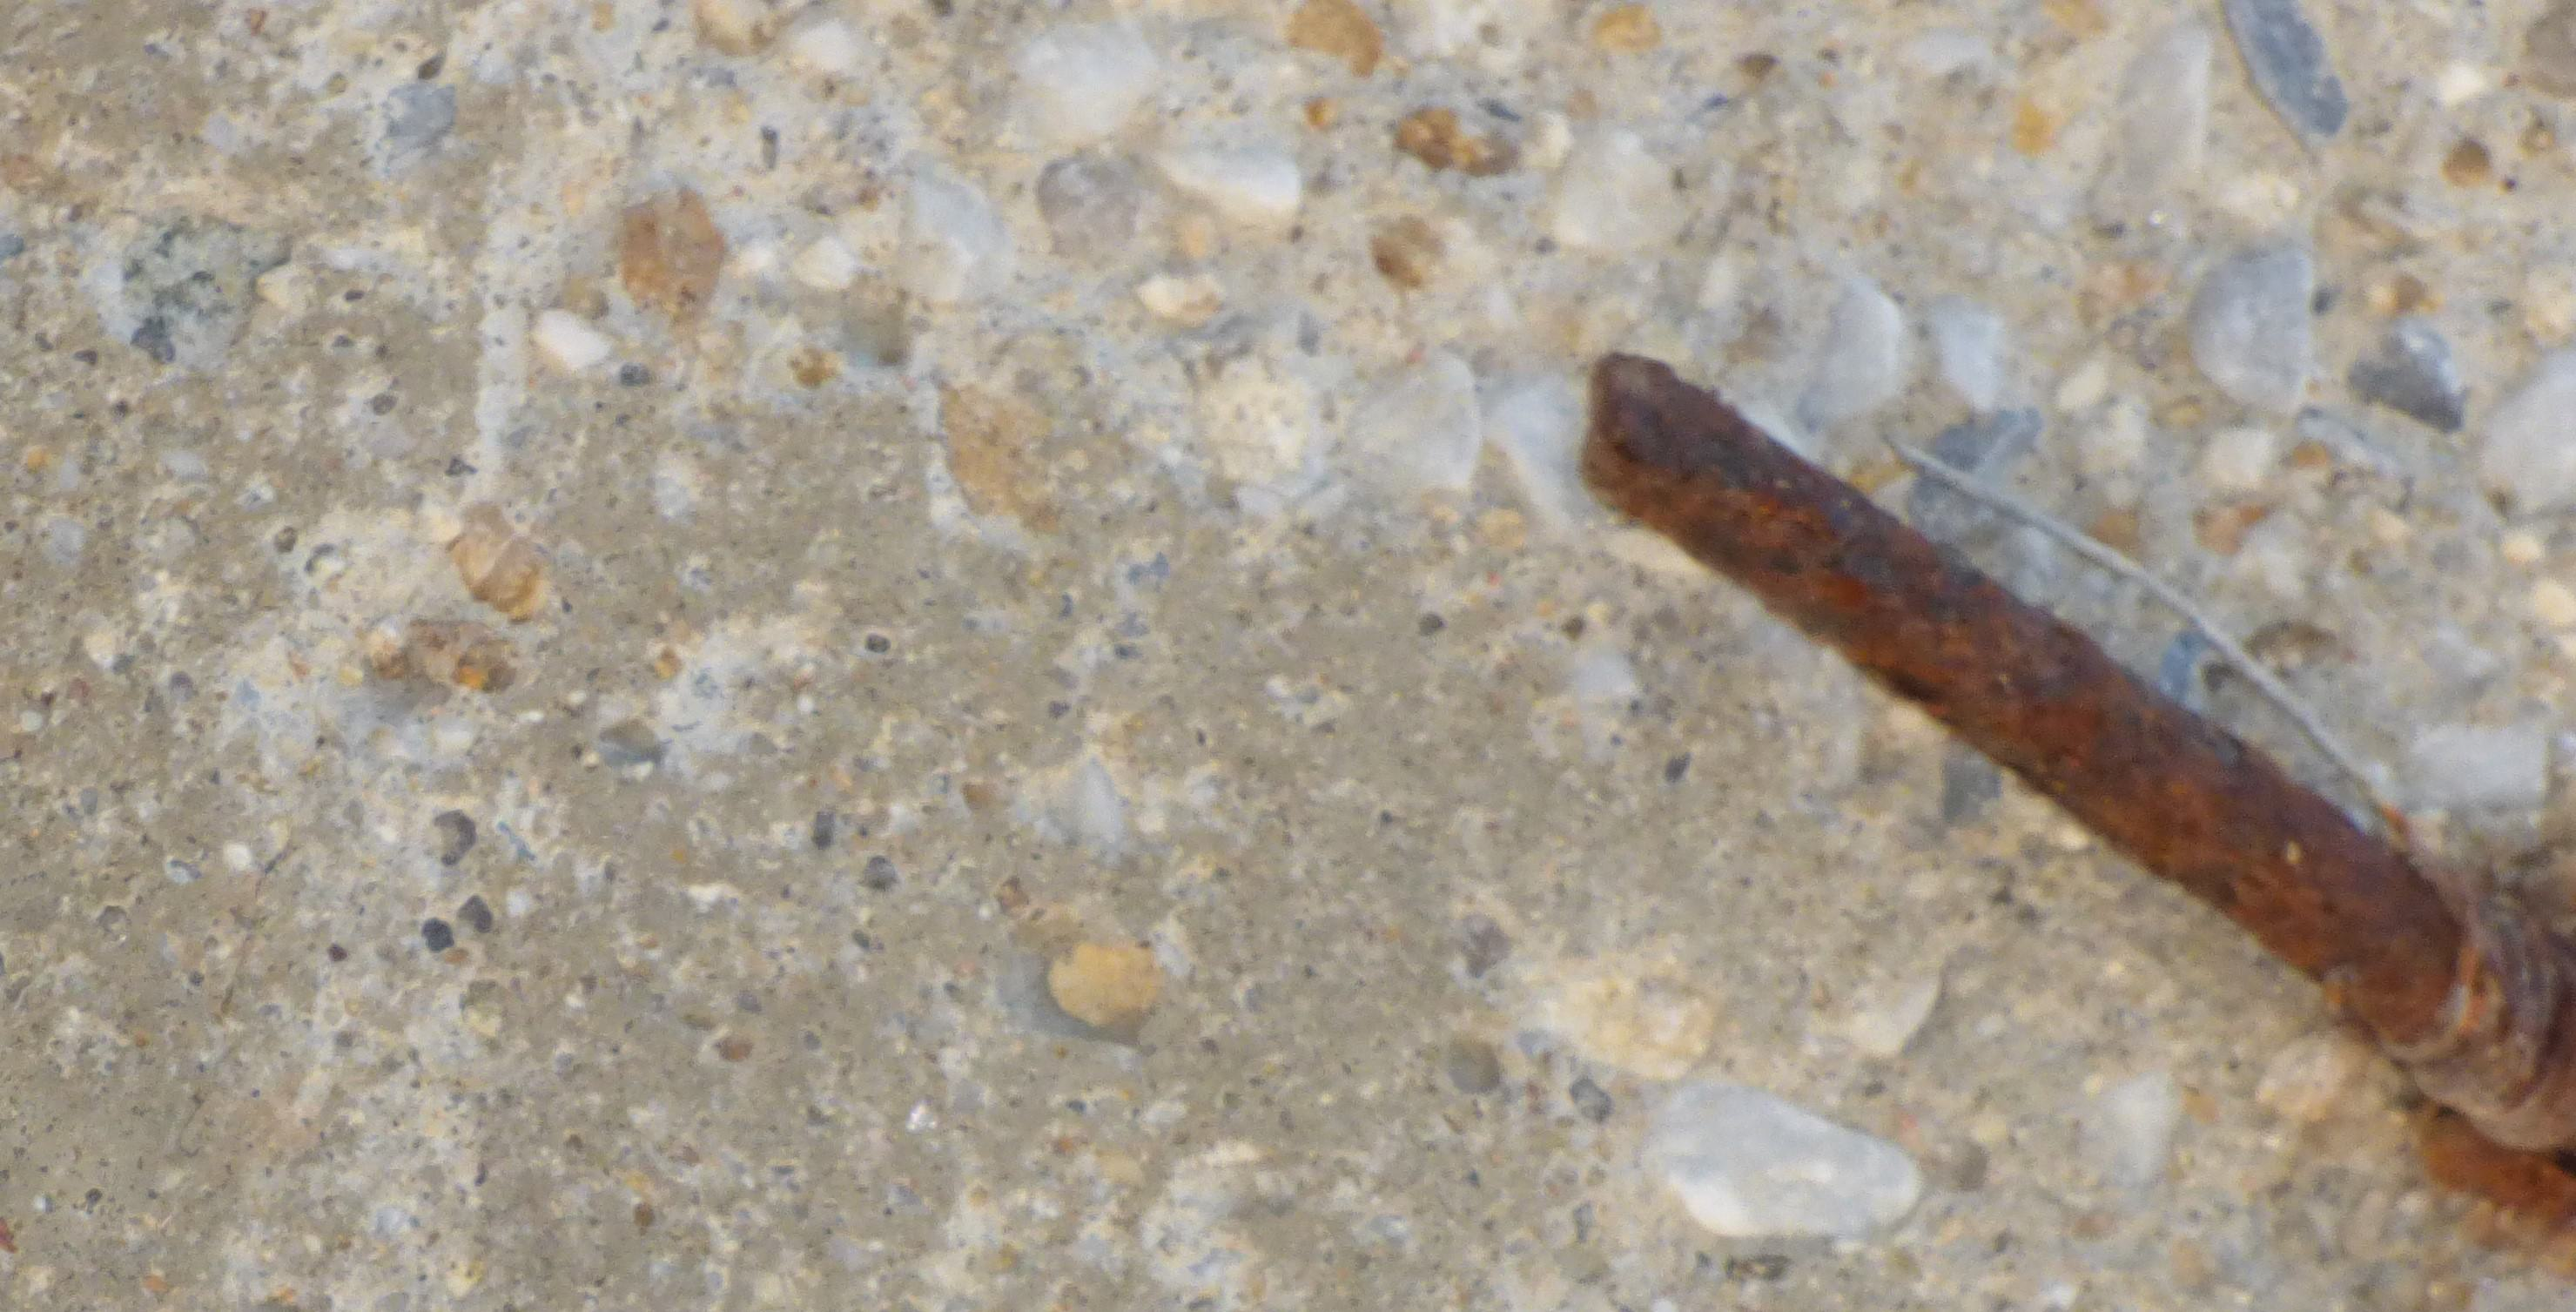Exposed reinforcement: (1574, 351, 2576, 1151)
